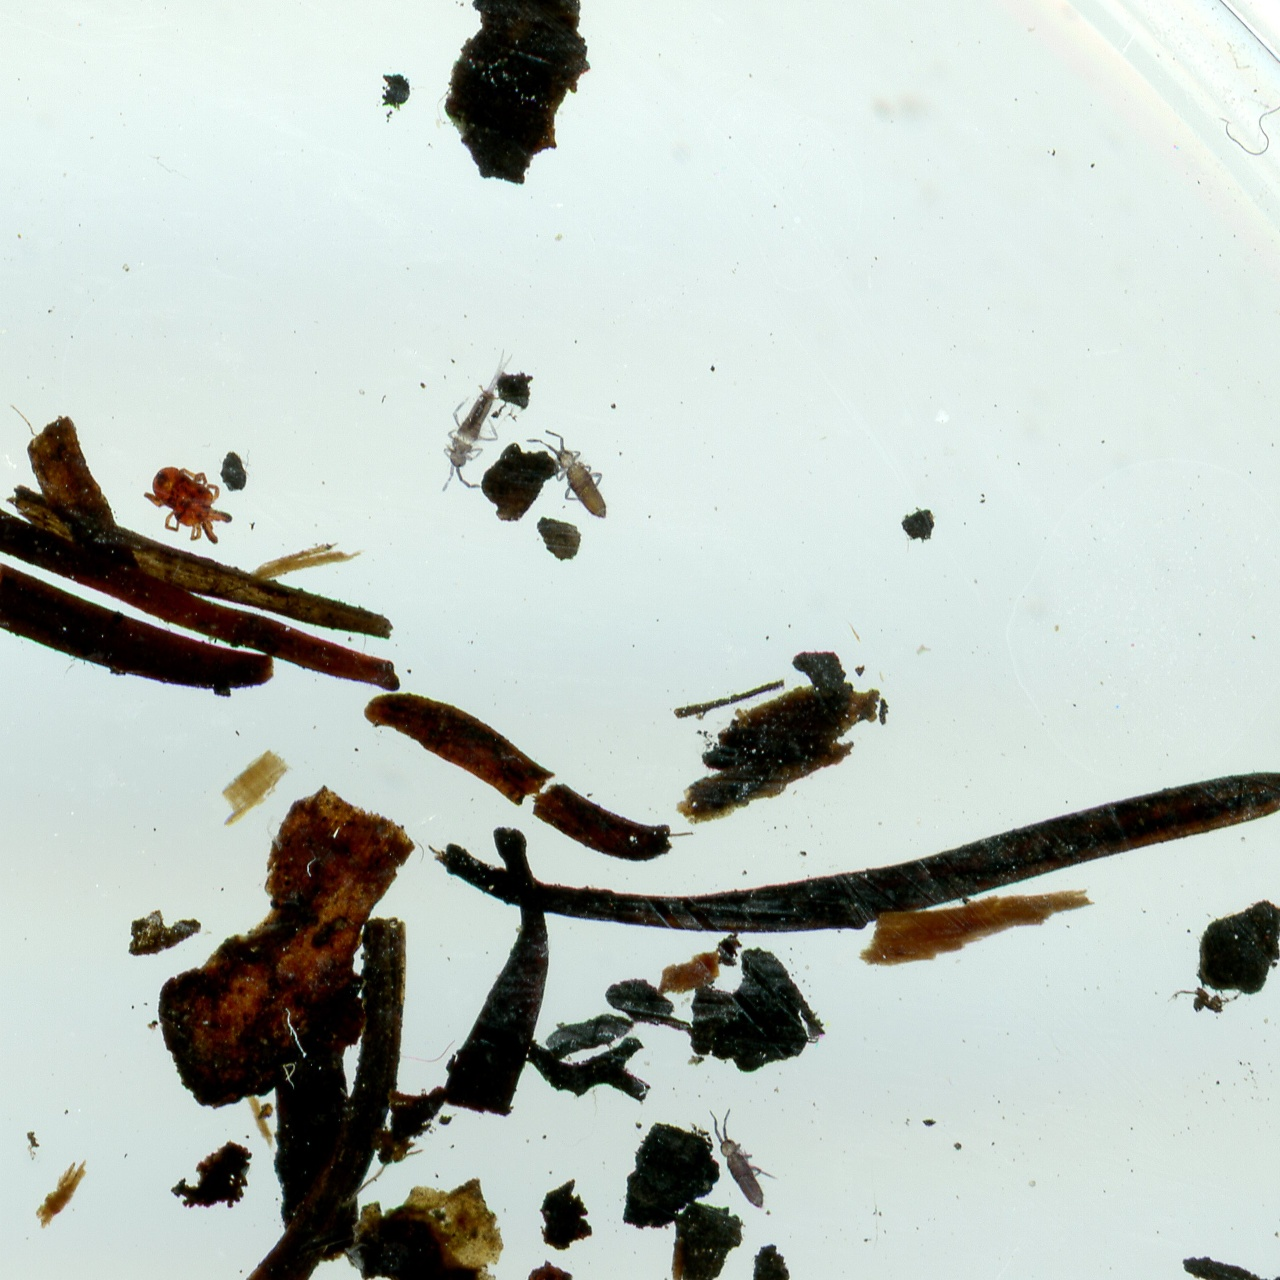arthropod: (427, 331, 530, 505), (691, 1086, 798, 1230), (517, 407, 625, 544), (141, 456, 239, 550)
